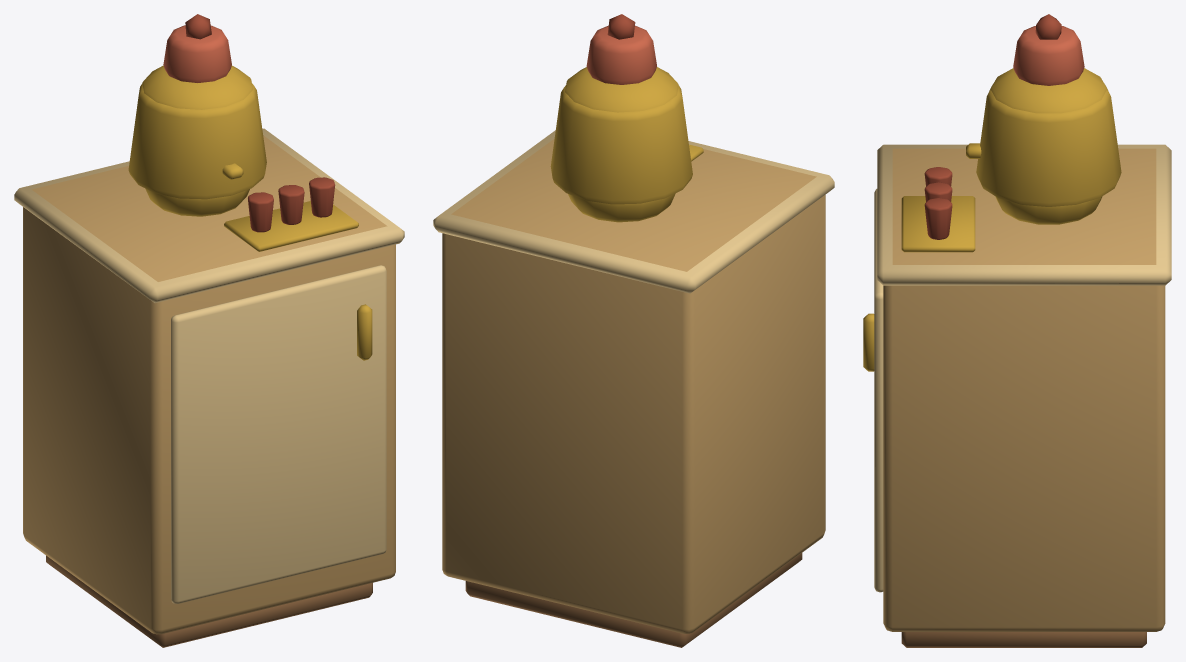
The model's file is tea_urn.glb.
3 views of the same model, side by side, from view 1: azimuth 30°, elevation 25°; view 2: azimuth 150°, elevation 25°; view 3: azimuth 270°, elevation 25° (orthographic). The views are drawn at different scales.
Parts seen in each view (by area): view 1: tea_urn; view 2: tea_urn; view 3: tea_urn.
Boxes of the visible parts, left/top/right/bottom form: tea_urn: left=14, top=14, right=404, bottom=647; tea_urn: left=433, top=14, right=834, bottom=647; tea_urn: left=863, top=14, right=1171, bottom=647.
Size of the model in its own units: 0.5 by 1.05 by 0.5025.
1 material, 1 textured.
